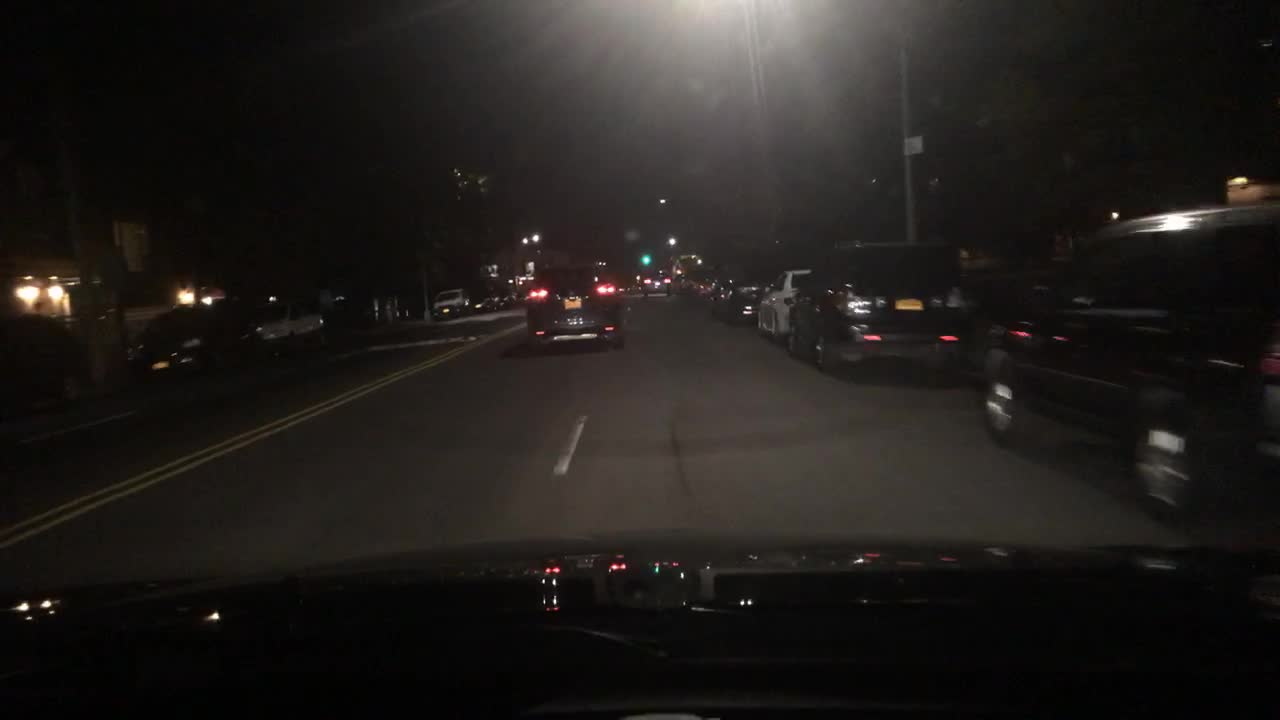car: (981, 202, 1279, 525), (789, 240, 971, 390), (526, 267, 628, 354), (127, 302, 235, 383), (0, 315, 87, 411), (238, 300, 327, 361), (758, 265, 810, 344), (726, 284, 765, 325), (431, 284, 473, 321), (707, 284, 739, 323), (637, 269, 673, 297), (471, 278, 495, 316), (697, 276, 719, 309), (497, 280, 515, 315), (663, 276, 685, 299), (689, 271, 705, 298), (677, 271, 691, 299)
traffic light: (640, 251, 653, 269)
traffic sign: (906, 136, 924, 155)
